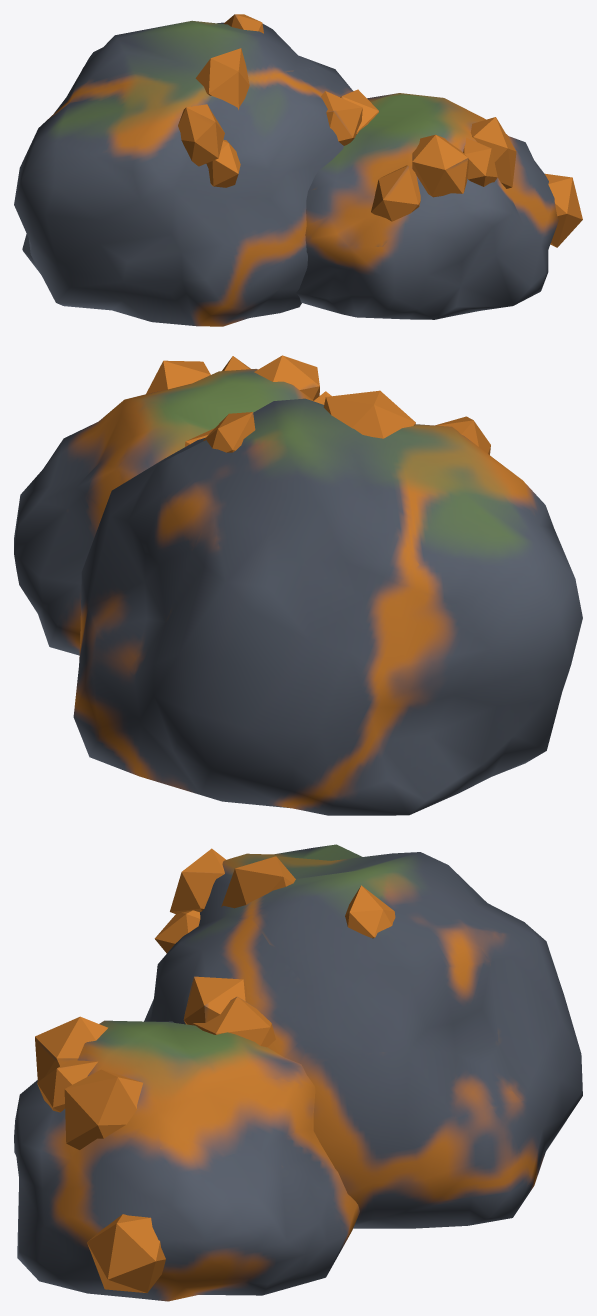
The model's file is season_rock_b.glb.
3 renders of one model, top to bottom at view 1: azimuth 30°, elevation 25°; view 2: azimuth 150°, elevation 25°; view 3: azimuth 270°, elevation 25°, orthographic. The views are drawn at different scales.
Parts seen in each view (by area): view 1: nug; view 2: nug; view 3: nug.
Part boxes in pixels (box(x1,y1,x2,y2)): nug: box(14, 14, 582, 326); nug: box(14, 355, 582, 815); nug: box(14, 844, 582, 1301).
Bounding box in the file's own units: 1.92 × 0.9374 × 1.6.
Materials: 1 (1 with a texture image).
